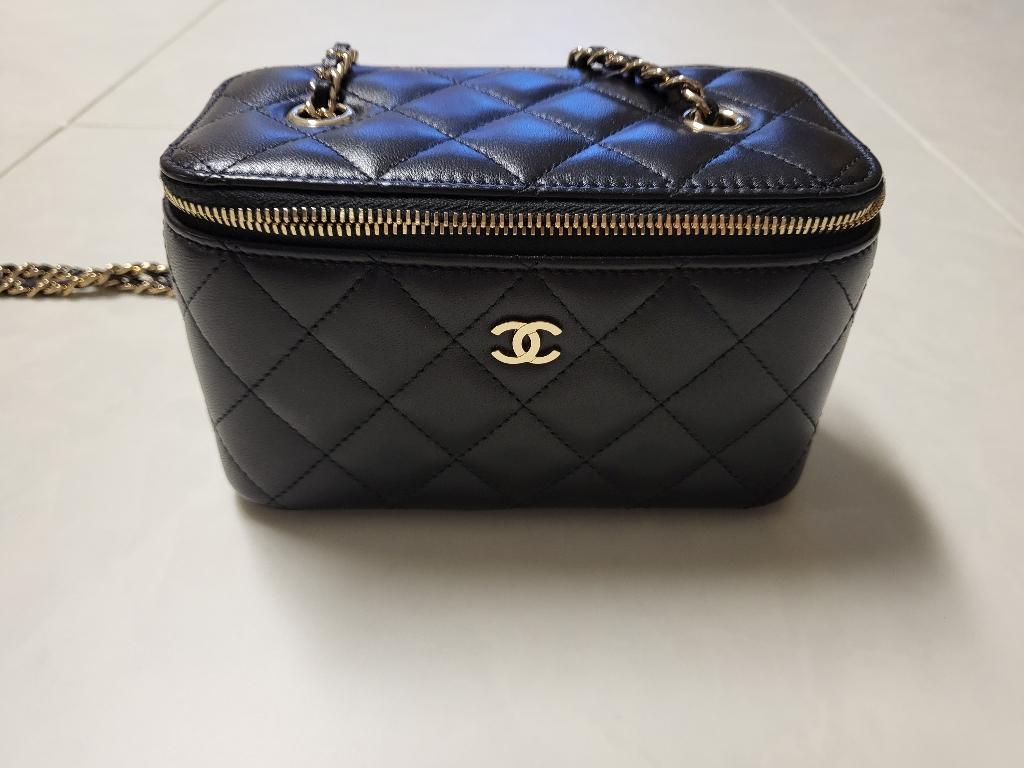channel: (139, 23, 902, 536), (471, 309, 602, 384)
